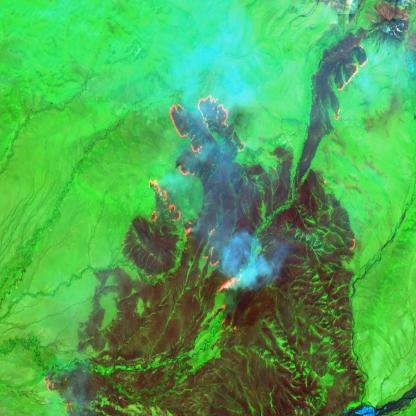fire: (146, 87, 248, 303), (326, 45, 370, 123), (38, 363, 82, 416)
